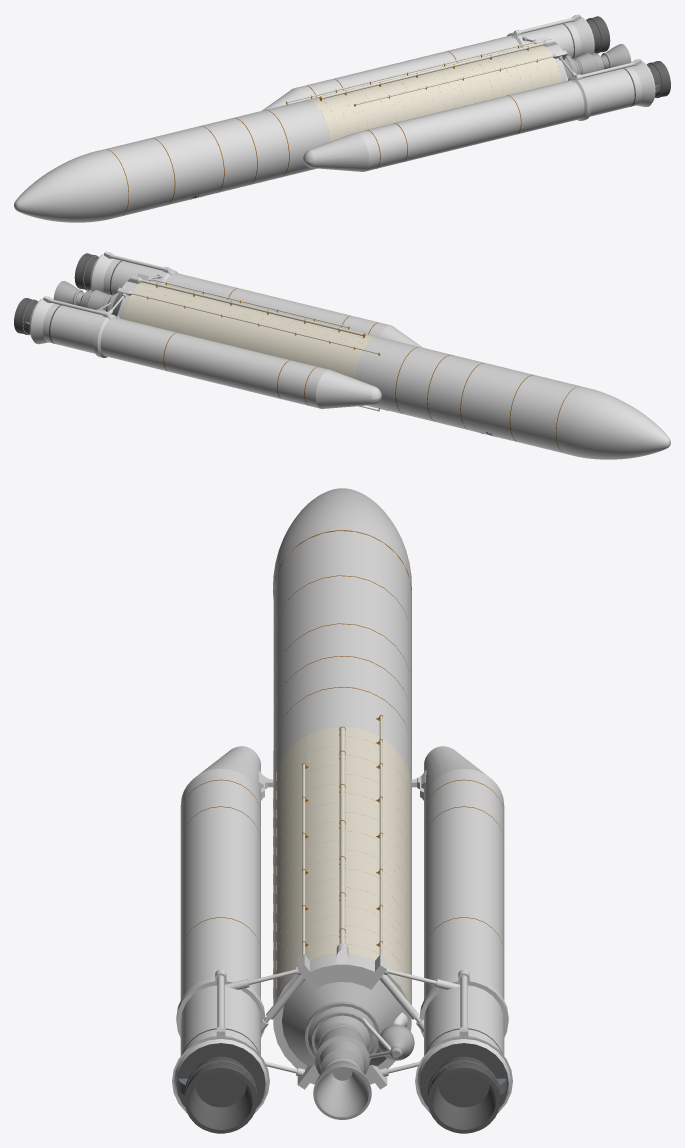
File: Ariane V (1).fbx
The picture shows the model from 3 angles, top to bottom: view 1: azimuth 30°, elevation 25°; view 2: azimuth 150°, elevation 25°; view 3: azimuth 270°, elevation 25°; orthographic projection. The views are drawn at different scales.
Parts seen in each view (by area): view 1: Default - Part, Default - Part 3, Default - Part 14, Default - Part 2, Default - Part 15; view 2: Default - Part, Default - Part 3, Default - Part 14, Default - Part 2, Default - Part 15; view 3: Default - Part, Default - Part 3, Default - Part 14, Default - Part 2, Default - Part 15.
Part boxes in pixels (x1,y1,x2,y2): Default - Part: [14, 14, 661, 222]; Default - Part 3: [115, 19, 601, 197]; Default - Part 14: [563, 16, 670, 106]; Default - Part 2: [563, 44, 631, 79]; Default - Part 15: [108, 51, 521, 214]; Default - Part: [29, 251, 670, 459]; Default - Part 3: [23, 279, 556, 438]; Default - Part 14: [14, 253, 121, 343]; Default - Part 2: [53, 281, 121, 316]; Default - Part 15: [163, 288, 578, 452]; Default - Part: [172, 488, 512, 1113]; Default - Part 3: [273, 530, 504, 1086]; Default - Part 14: [176, 1028, 508, 1133]; Default - Part 2: [282, 980, 414, 1119]; Default - Part 15: [183, 530, 501, 943].
Size of the model in its own units: 5001 by 567 by 1198.
